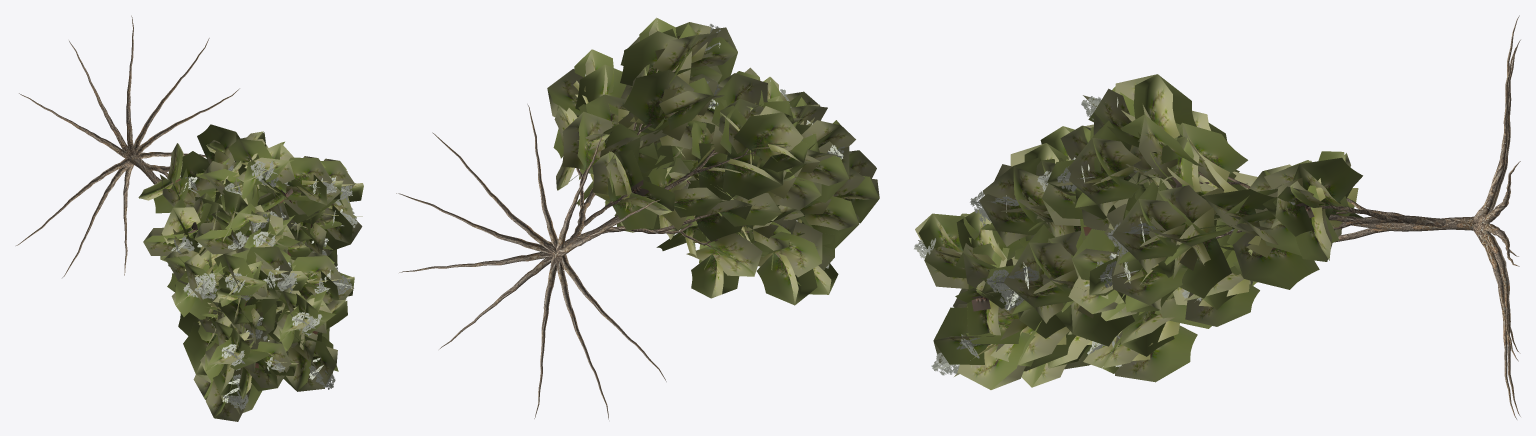
File: narrow_leaved_paperbark_1.obj
The picture shows the model from 3 angles, left to right: view 1: azimuth 30°, elevation 25°; view 2: azimuth 150°, elevation 25°; view 3: azimuth 270°, elevation 25°; orthographic projection. The views are drawn at different scales.
Parts seen in each view (by area): view 1: OBJ_OC56_MelaleucaAlternifolia_1; view 2: OBJ_OC56_MelaleucaAlternifolia_1; view 3: OBJ_OC56_MelaleucaAlternifolia_1.
Part boxes in pixels (x1,y1,x2,y2): OBJ_OC56_MelaleucaAlternifolia_1: [16, 15, 363, 421]; OBJ_OC56_MelaleucaAlternifolia_1: [396, 17, 879, 419]; OBJ_OC56_MelaleucaAlternifolia_1: [914, 15, 1520, 419].
Size of the model in its own units: 4.31 by 4.76 by 6.98.
Materials: 4 (4 with a texture image).
